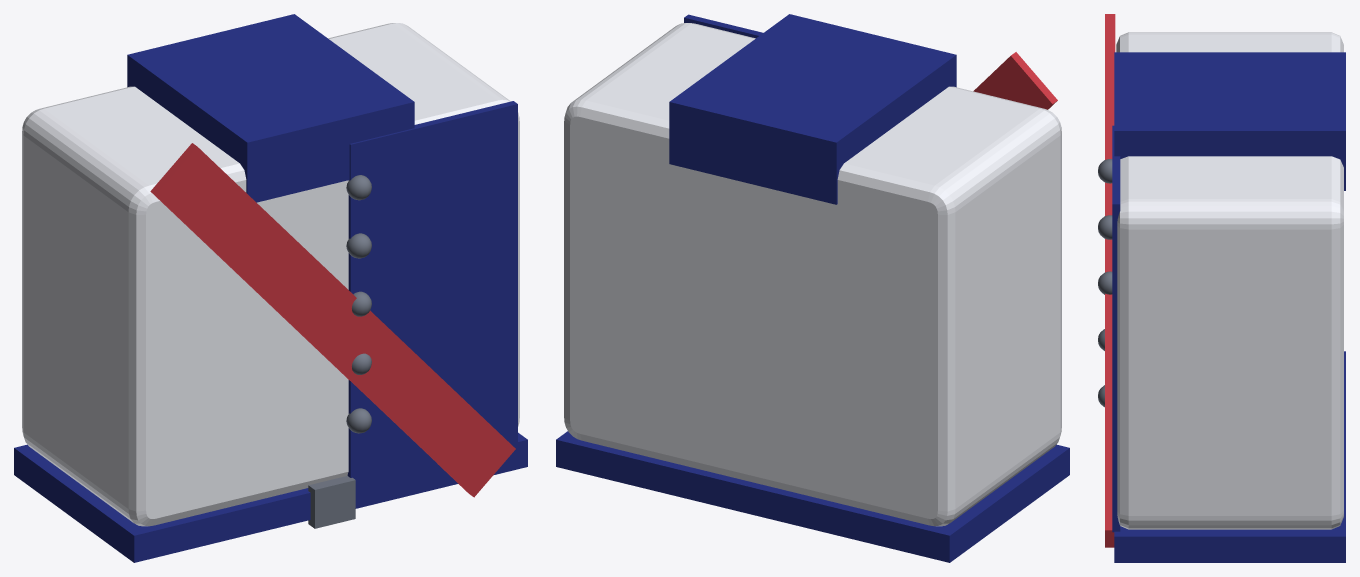
Rendered from eqf_eqen0.glb.
3 renders of one model, left to right at view 1: azimuth 30°, elevation 25°; view 2: azimuth 150°, elevation 25°; view 3: azimuth 270°, elevation 25°, orthographic. The views are drawn at different scales.
Size of the model in its own units: 2.12 by 2.15 by 1.2.
